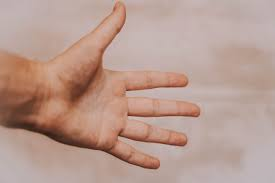move: (31, 2, 191, 170)
